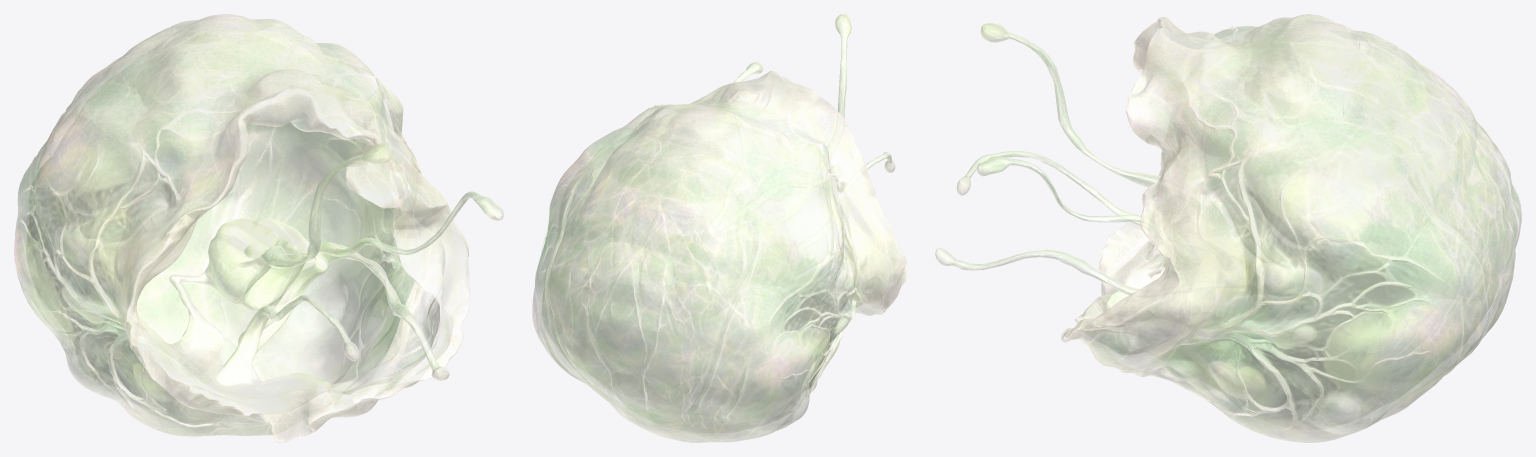
File: cell01.glb
The picture shows the model from 3 angles, left to right: view 1: azimuth 30°, elevation 25°; view 2: azimuth 150°, elevation 25°; view 3: azimuth 270°, elevation 25°; orthographic projection. The views are drawn at different scales.
Parts seen in each view (by area): view 1: Mesh_0; view 2: Mesh_0; view 3: Mesh_0.
Part boxes in pixels (x1,y1,x2,y2): Mesh_0: (14, 14, 503, 442); Mesh_0: (532, 14, 906, 442); Mesh_0: (935, 14, 1521, 442).
Size of the model in its own units: 1.29 by 1.39 by 1.9.
1 material, 1 textured.
